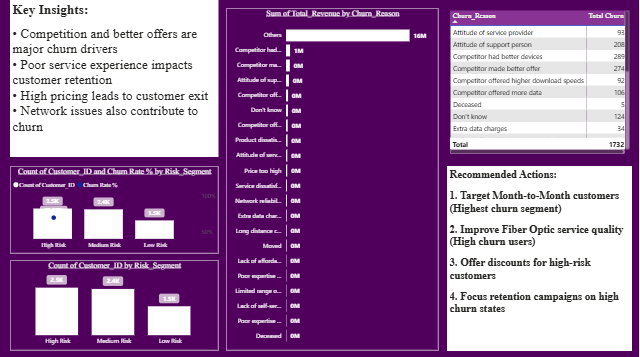

The dashboard page shown, as its layout file describes it:
{"tool":"powerbi","page":{"name":"Churn Reason & Reduction_Strategy","canvas":[1280,720],"ordinal":1},"visuals":[{"type":"tableEx","fields":{"Values":["prod_Churn.Churn_Reason","tbl_measures.Total Churn"]},"box":[895.3,18.5,369.6,297.3],"z":0},{"type":"textbox","box":[21.8,0,416.6,315.8],"z":1000},{"type":"lineClusteredColumnComboChart","fields":{"Category":["prod_Churn.Risk_Segment"],"Y":["CountNonNull(prod_Churn.Customer_ID)"],"Y2":["mapping_age_grp.Churn Rate %"]},"box":[21.8,334.3,416.6,174.7],"z":2000},{"type":"lineStackedColumnComboChart","fields":{"Category":["prod_Churn.Risk_Segment"],"Y":["CountNonNull(prod_Churn.Customer_ID)"]},"box":[21.8,522.4,416.6,181.4],"z":3000},{"type":"clusteredBarChart","fields":{"Category":["prod_Churn.Churn_Reason"],"Y":["Sum(prod_Churn.Total_Revenue)"]},"box":[453.5,18.5,425,685.4],"z":4000},{"type":"textbox","box":[895.3,334.3,369.6,369.6],"z":4001}]}

Visuals, with their boxes in screenshot pixels (x1, y1, x2, y2), scaled from the page's 1280x720 canvas onto the 640x357 screenshot:
tableEx - prod_Churn.Churn_Reason x tbl_measures.Total Churn: l=448, t=9, r=632, b=157
textbox: l=11, t=0, r=219, b=157
lineClusteredColumnComboChart - prod_Churn.Risk_Segment x CountNonNull(prod_Churn.Customer_ID): l=11, t=166, r=219, b=252
lineStackedColumnComboChart - prod_Churn.Risk_Segment x CountNonNull(prod_Churn.Customer_ID): l=11, t=259, r=219, b=349
clusteredBarChart - prod_Churn.Churn_Reason x Sum(prod_Churn.Total_Revenue): l=227, t=9, r=439, b=349
textbox: l=448, t=166, r=632, b=349
